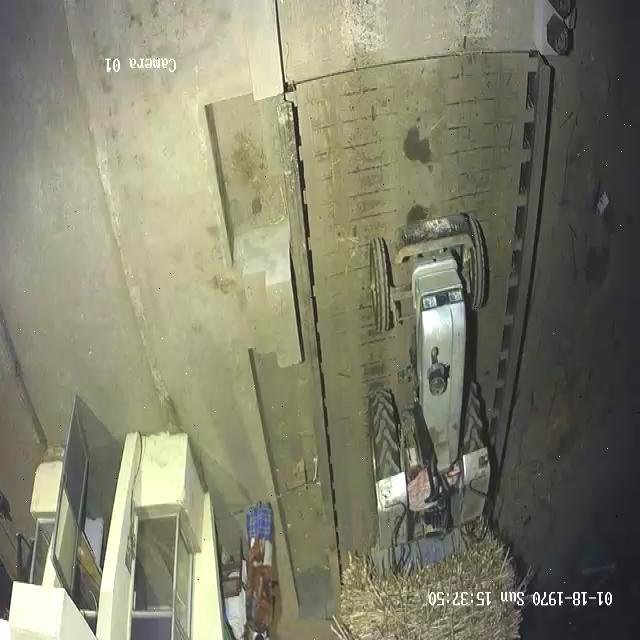Tratores - v5 YOLO V8L 2024-11-13: (366, 209, 494, 526)
